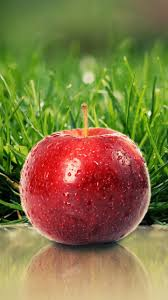apple: (21, 129, 150, 246)
